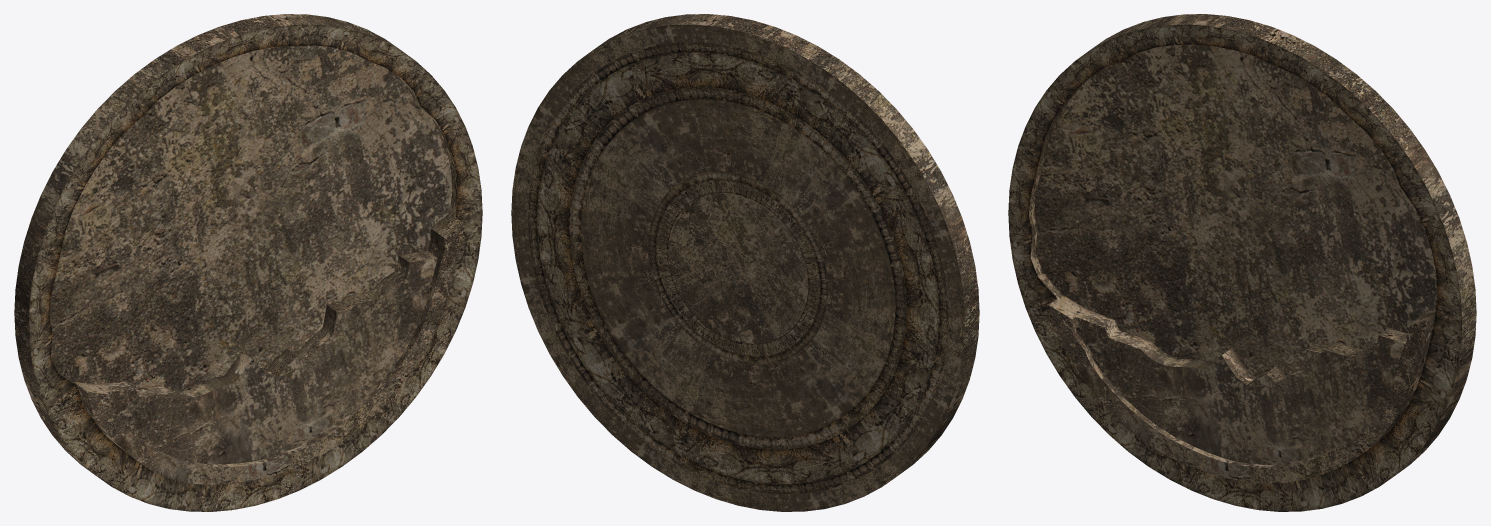
The model's file is materials_5_decoration_plate_8.fbx.
3 renders of one model, left to right at view 1: azimuth 30°, elevation 25°; view 2: azimuth 150°, elevation 25°; view 3: azimuth 330°, elevation 25°, orthographic.
Visible parts, largest first — view 1: materials_5_decoration_plate_8; view 2: materials_5_decoration_plate_8; view 3: materials_5_decoration_plate_8.
Part boxes in pixels (x1,y1,x2,y2): materials_5_decoration_plate_8: (14, 14, 482, 511); materials_5_decoration_plate_8: (511, 14, 979, 511); materials_5_decoration_plate_8: (1008, 14, 1476, 511).
Bounding box in the file's own units: 104 × 104 × 9.2.
